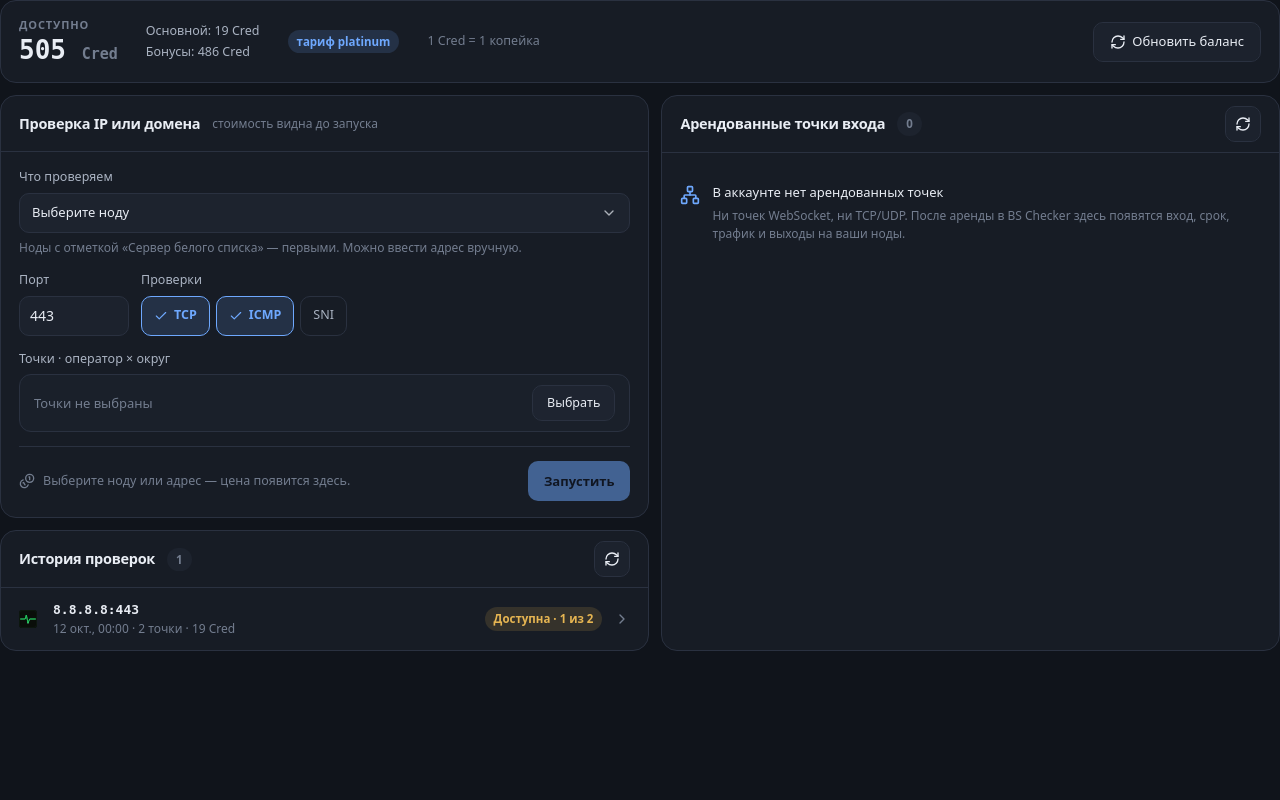
Test: BS Checker (вариант A) › результат: вывод про белый список сверху, по точкам TCP и ICMP
The image size is (1280, 800).
Step 1. Click the button "8.8.8.8:443" → point(96, 610), box 1,588 -> 648,650
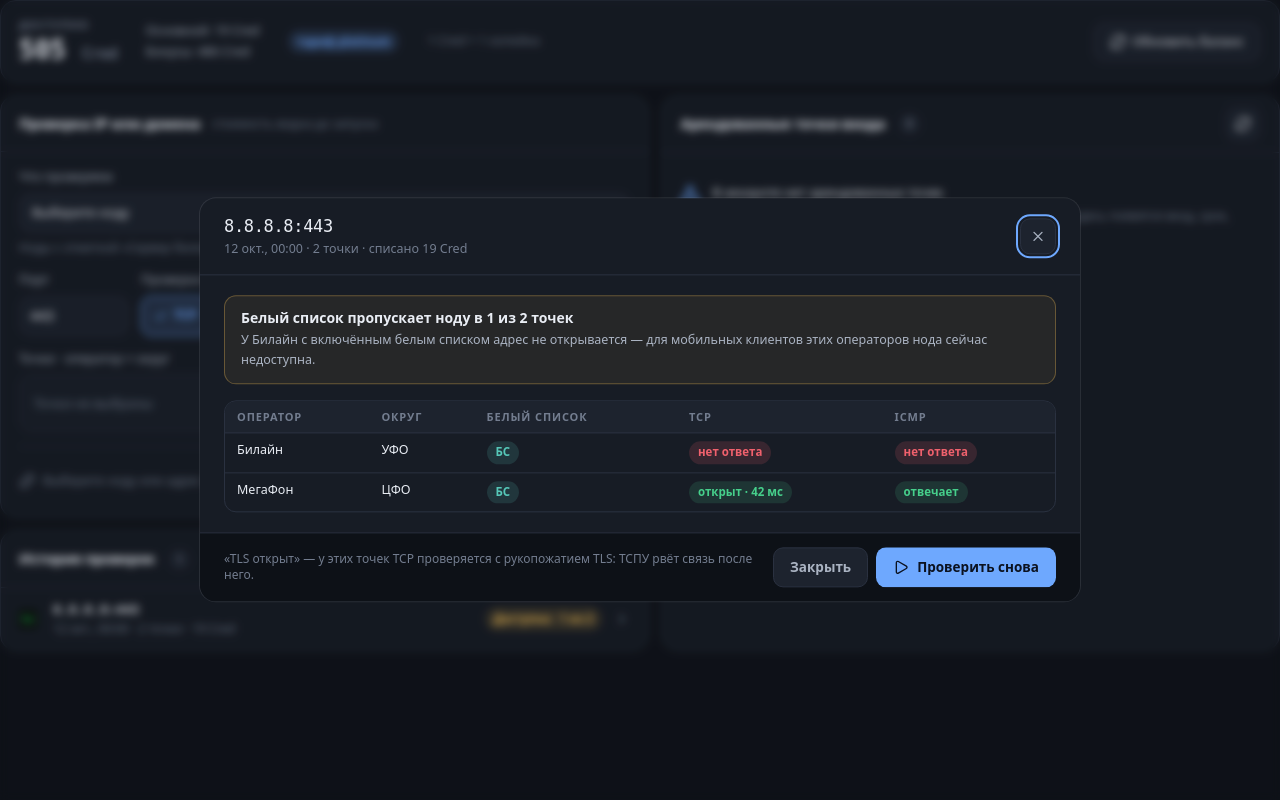
Now the dialog shows "Белый список пропускает ноду в 1 из 2 точек", box 241,308 -> 574,328
Now the dialog shows "У Билайн с включённым белым списком адрес не открывается", box 241,332 -> 987,369
Now the table shows "Билайн", box 237,442 -> 283,459
